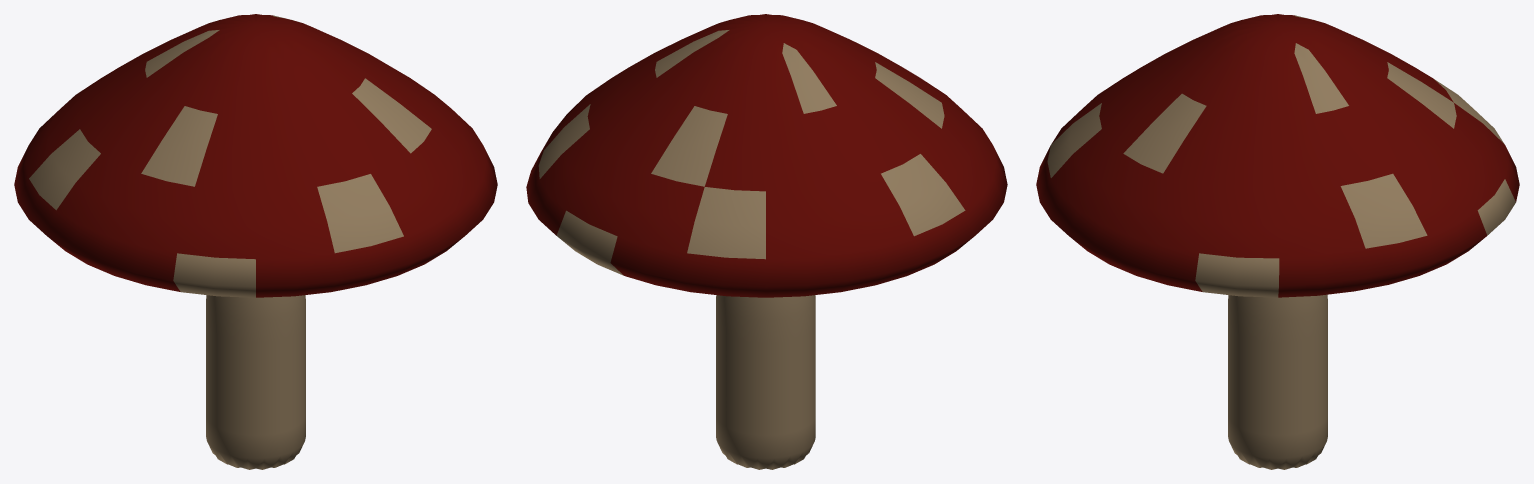
File: FlueSopp.FBX
3 renders of one model, left to right at view 1: azimuth 30°, elevation 25°; view 2: azimuth 150°, elevation 25°; view 3: azimuth 270°, elevation 25°, orthographic.
Visible parts, largest first — view 1: FlueSopp; view 2: FlueSopp; view 3: FlueSopp.
Part boxes in pixels (bbox=[...]): FlueSopp: bbox=[14, 14, 497, 469]; FlueSopp: bbox=[526, 14, 1007, 469]; FlueSopp: bbox=[1036, 14, 1519, 469].
Bounding box in the file's own units: 0.1905 × 0.19 × 0.1909.
